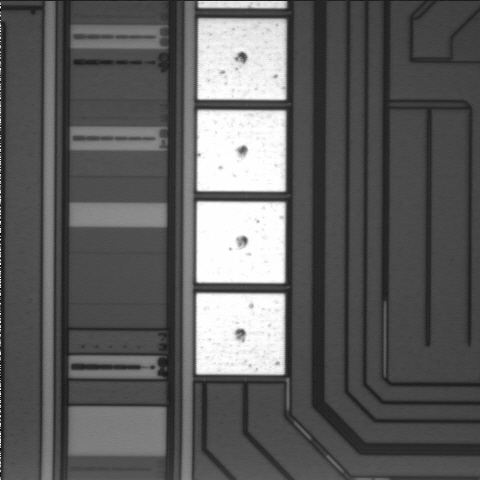pad: (197, 110, 286, 192), (196, 201, 285, 283), (196, 293, 285, 375), (198, 19, 286, 100)
